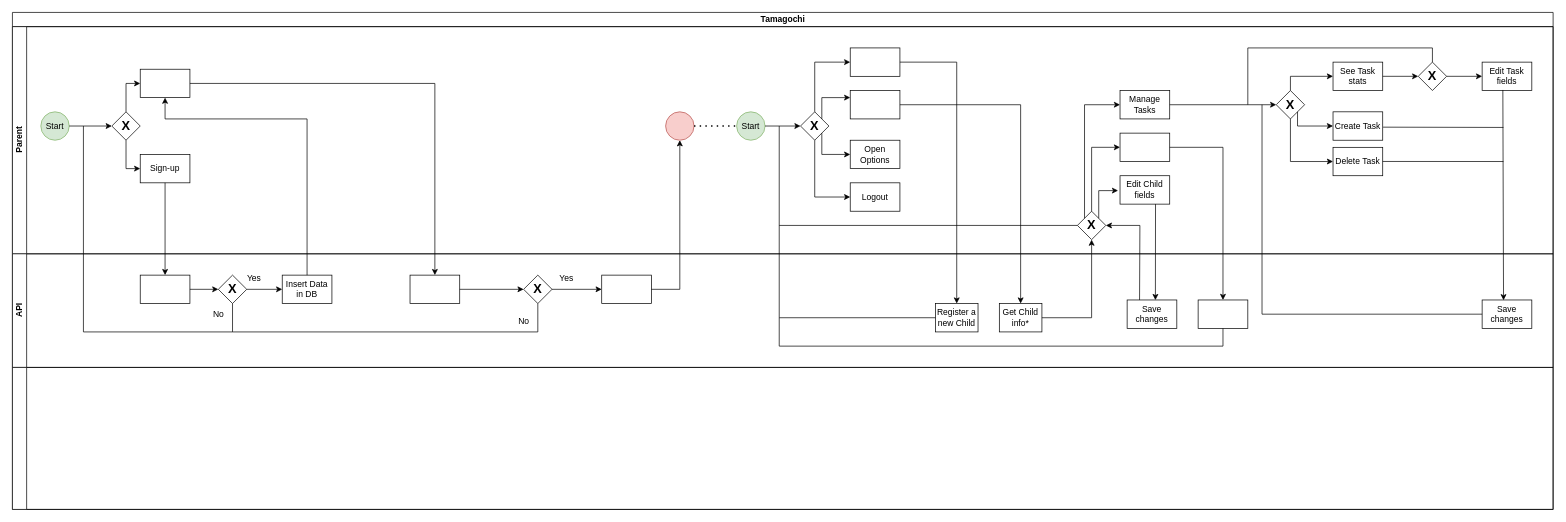
Some shapes in this 1566 by 522 pixel diagram are drawn without their labels. The centre of each missing label's shape, as x and y in pixels:
"Authenticate User" goes at point (434, 289).
"Children" goes at point (782, 438).
"Create Child" goes at point (875, 61).
"Delete Child" goes at point (1144, 147).
"Delete Child from DB" goes at point (1222, 313).
"End" goes at point (679, 125).
"Generate JWT" goes at point (626, 289).
"Login" goes at point (165, 83).
"Manage Child" goes at point (875, 104).
"Validate Data" goes at point (165, 289).
